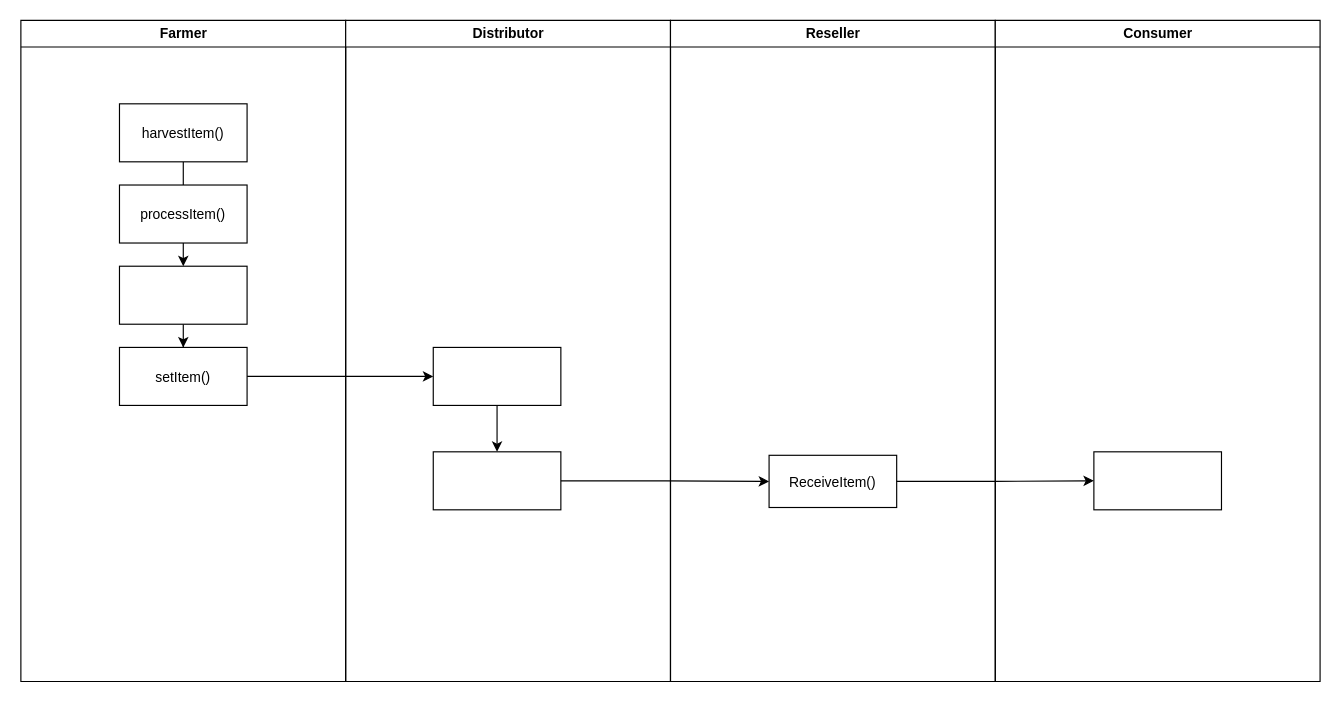
The diagram is 1340 pixels wide and 702 high, and some of its shapes have lost their labels. The shapes that lost their labels are listed below. From the top down, each one's centre as x and y in pixels, then its label:
At pixel 182 294: "packItem()".
At pixel 496 375: "buyItem()".
At pixel 496 480: "shipItem()".
At pixel 1157 480: "PurchaseItem()".
